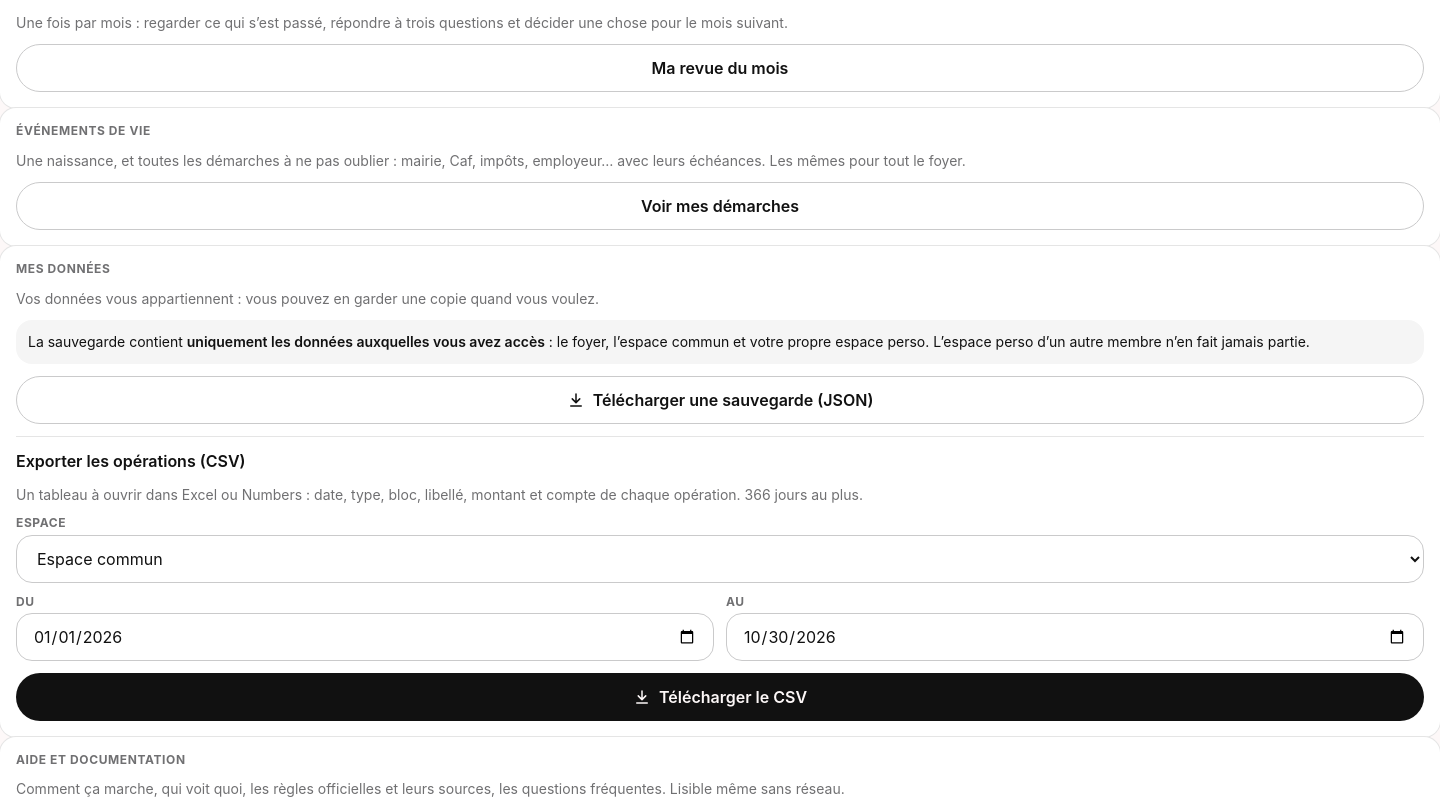
FoyerPage « Mes données » › JSON backup › explains a missing household (404) and saves nothing
(page scrolled)
Click the button "Télécharger une sauvegarde (JSON)": (720, 400) [16,376,1424,424]
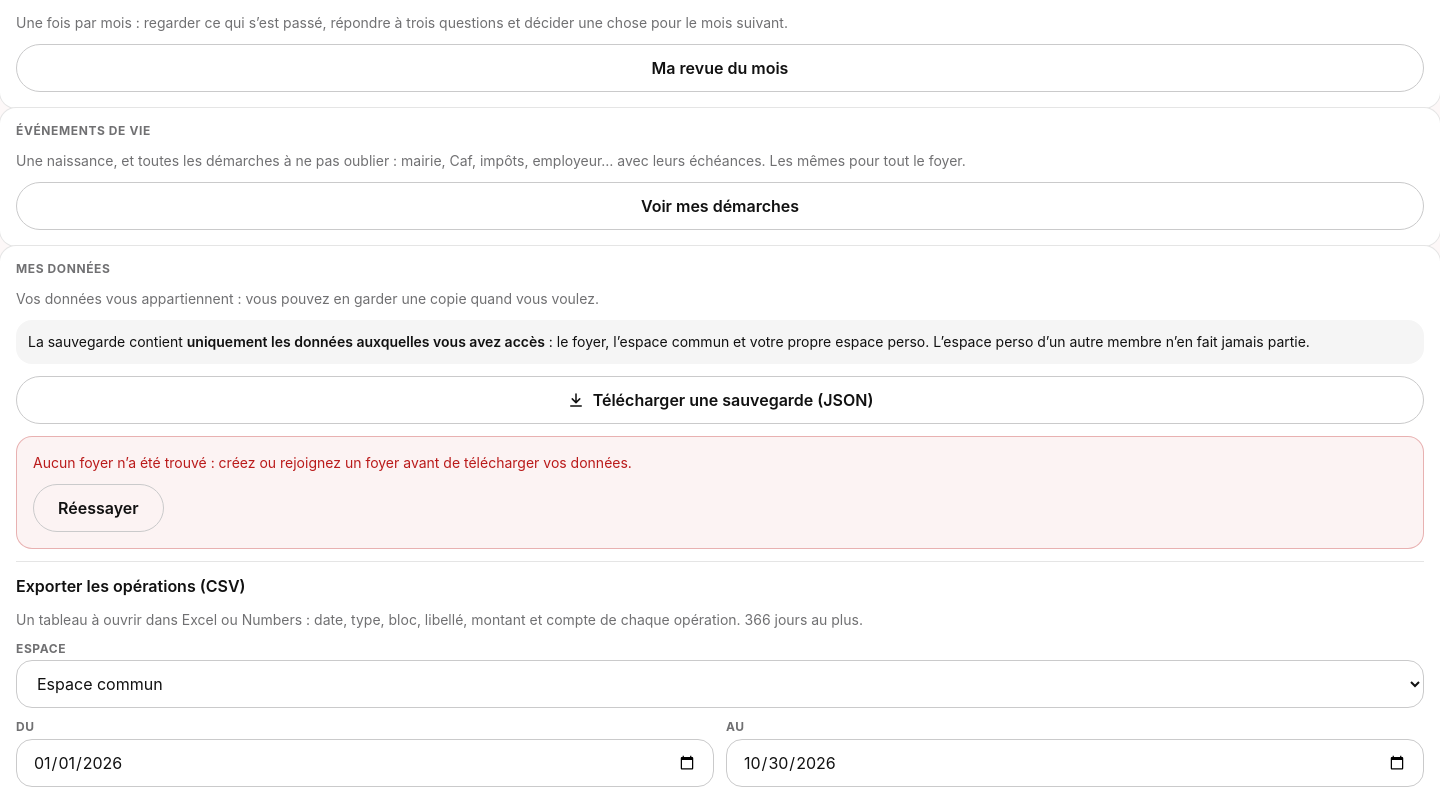
Expected: the message shows "Aucun foyer n’a été trouvé", [33,454,632,471]
